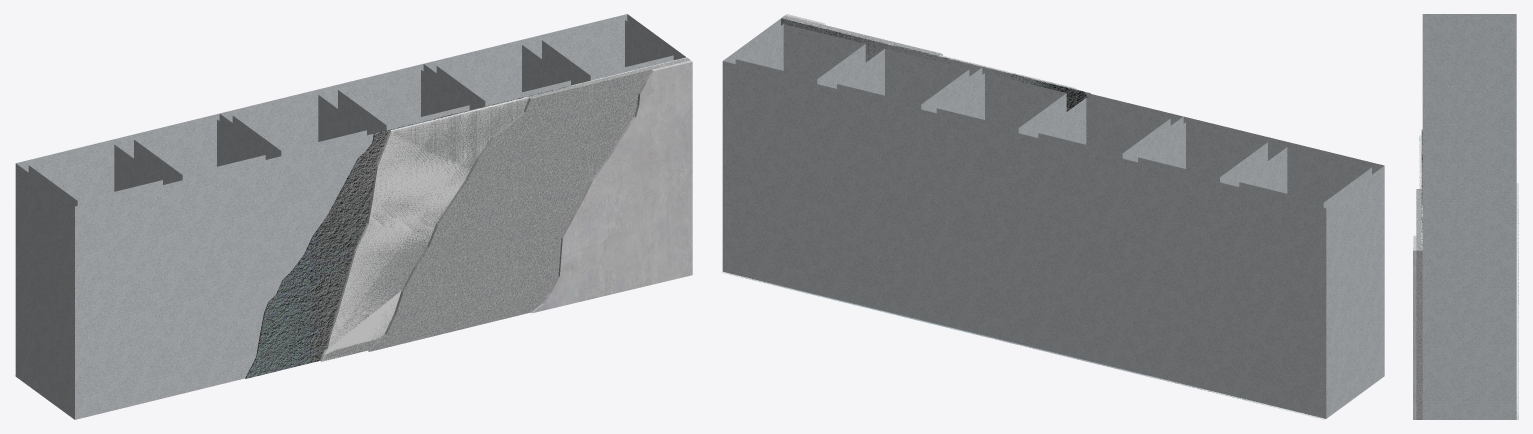
Rendered from ChapiscoEmbocoeReboco.dae.
3 views of the same model, side by side, from view 1: azimuth 30°, elevation 25°; view 2: azimuth 150°, elevation 25°; view 3: azimuth 270°, elevation 25° (orthographic). The views are drawn at different scales.
Visible parts, largest first — view 1: group_1 (×2), group_14 (×3), group_2, group_7 (×3), group_10, group_8 (×3), group_15, group_13, group_5; view 2: group_14 (×3), group_7 (×3), group_8 (×3), group_10, group_5, group_6, group_11, group_9, group_13, group_12, group_0, group_15 (+1 smaller); view 3: group_8 (×3), group_14 (×3), group_7 (×2), group_12, group_11, group_1 (×3), group_2, group_13, group_0, group_5, group_10, group_15 (+1 smaller).
Part boxes in pixels (x1,y1,x2,y2): group_1 (×2): [320, 57, 690, 361]; group_14 (×3): [15, 113, 278, 277]; group_2: [531, 60, 692, 313]; group_7 (×3): [219, 64, 481, 227]; group_10: [15, 302, 267, 419]; group_8 (×3): [424, 14, 685, 106]; group_15: [245, 85, 570, 378]; group_13: [15, 234, 174, 348]; group_5: [175, 216, 326, 324]; group_14 (×3): [1125, 116, 1384, 278]; group_7 (×3): [924, 67, 1183, 229]; group_8 (×3): [722, 18, 981, 180]; group_10: [1125, 299, 1384, 418]; group_5: [1026, 205, 1227, 324]; group_6: [825, 156, 1026, 275]; group_11: [722, 201, 923, 320]; group_9: [924, 250, 1124, 369]; group_13: [1227, 236, 1384, 348]; group_12: [722, 131, 824, 226]; group_0: [721, 271, 1325, 419]; group_15: [781, 18, 1088, 111]; group_8 (×3): [1422, 172, 1516, 307]; group_14 (×3): [1422, 14, 1516, 149]; group_7 (×2): [1431, 96, 1508, 171]; group_12: [1422, 307, 1516, 363]; group_11: [1422, 363, 1516, 419]; group_1 (×3): [1416, 135, 1422, 419]; group_2: [1413, 235, 1416, 419]; group_13: [1422, 70, 1516, 165]; group_0: [1516, 183, 1518, 419]; group_5: [1422, 150, 1516, 244]; group_10: [1422, 165, 1516, 250]; group_15: [1421, 129, 1422, 205].
Size of the model in its own units: 195 by 36.81 by 65.03.
10 materials, 7 textured.
